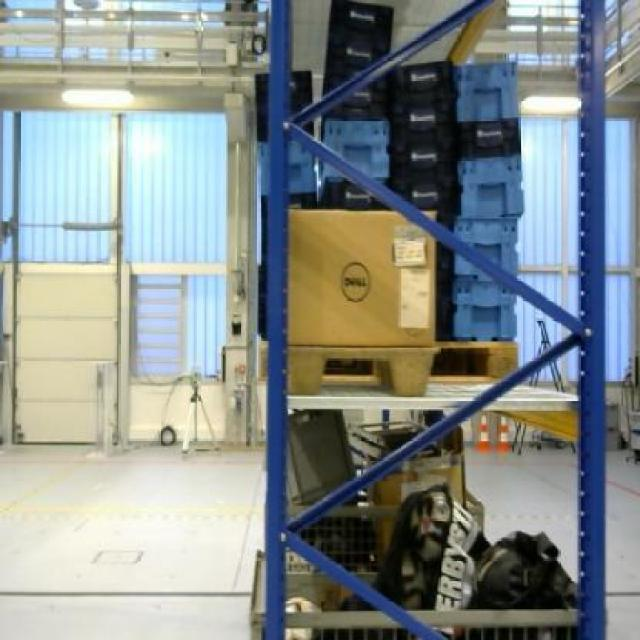box: (287, 206, 436, 348)
